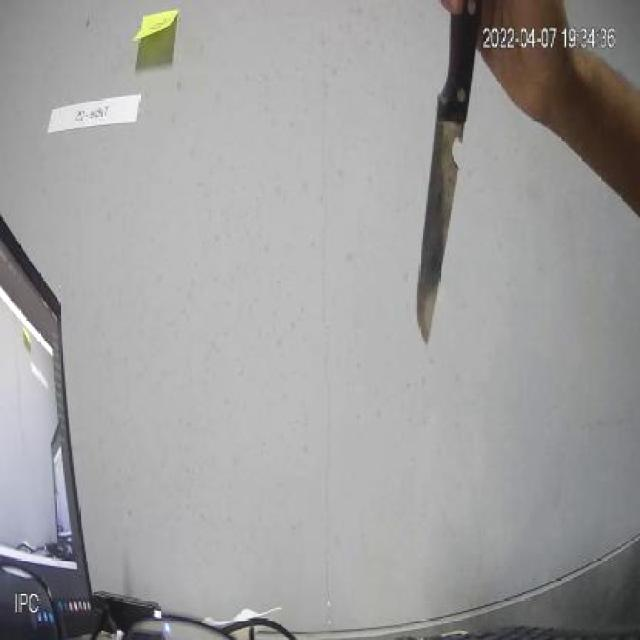knife: (418, 1, 491, 357)
